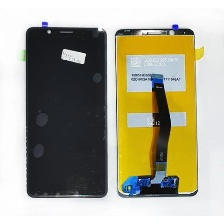phone: (112, 24, 200, 200), (23, 24, 110, 198)
